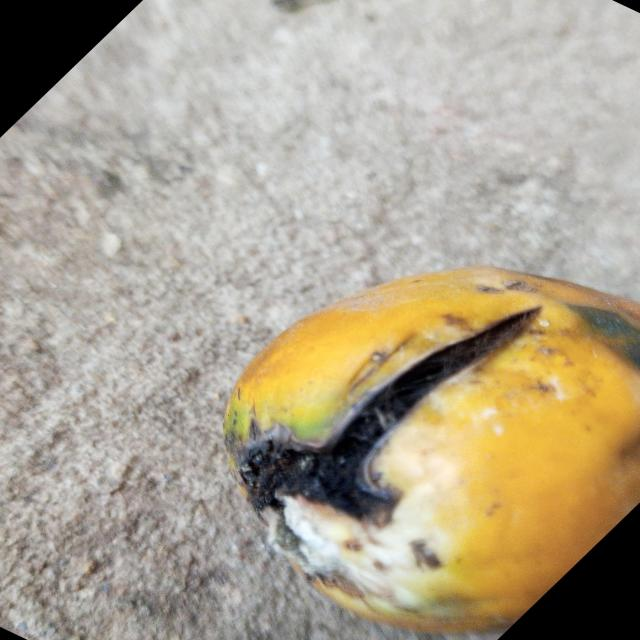damaged: (224, 266, 640, 640)
